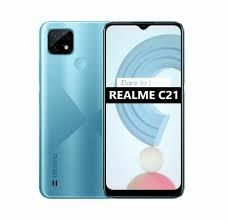Smartphone: (43, 21, 108, 201)
